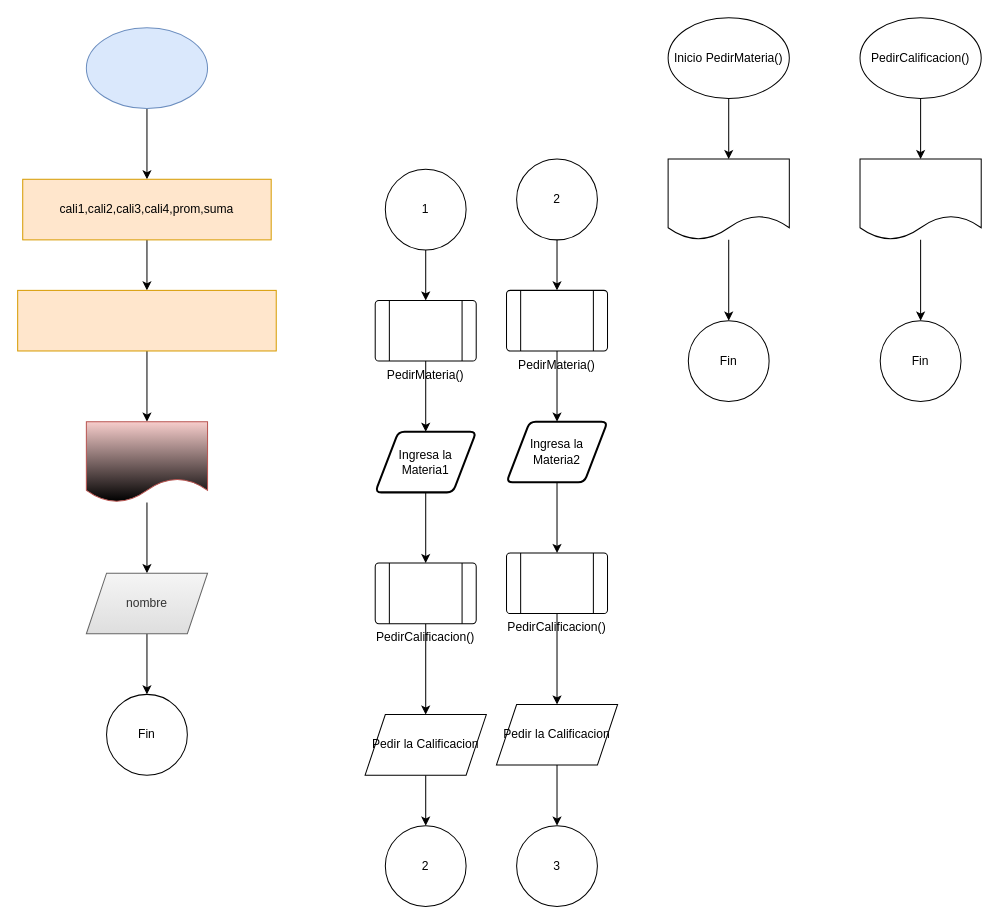
Some shapes in this 999 by 924 pixel diagram are drawn without their labels. Each missing label, with the centre of its shape:
"Ingresa la Calificacion": the point at 920,199
"Ingresa la Materia": the point at 728,199
"Solicitamos nombre alumno": the point at 146,461
Inicio: the point at 146,68
nombre_alumno,mat1,mat2,mat3,mat4: the point at 146,320
